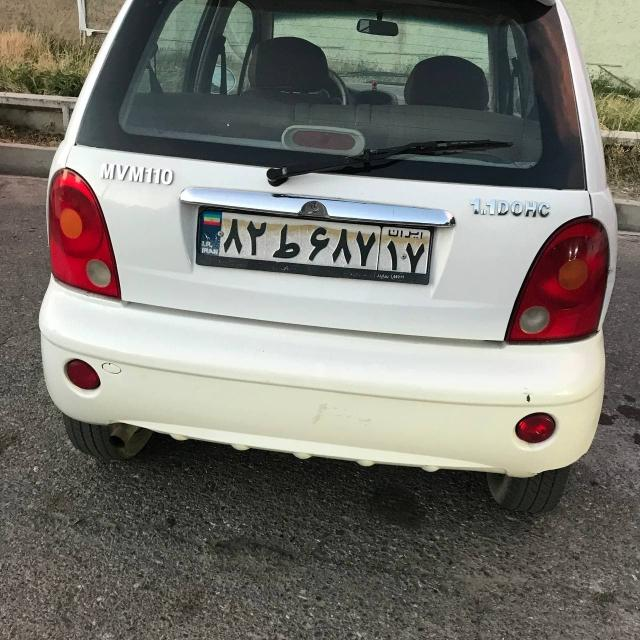Plates: (199, 209, 431, 274)
